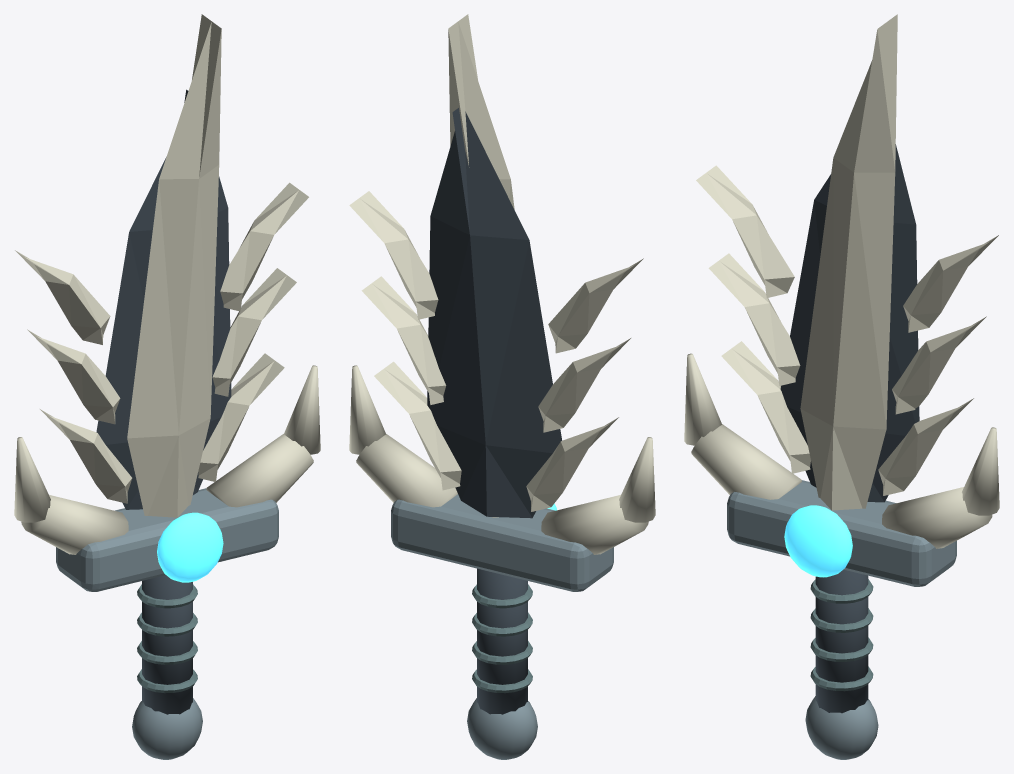
File: YK_00_Muk_Weapon_E02.glb
The picture shows the model from 3 angles, left to right: view 1: azimuth 30°, elevation 25°; view 2: azimuth 150°, elevation 25°; view 3: azimuth 330°, elevation 25°; orthographic projection. The views are drawn at different scales.
Parts seen in each view (by area): view 1: SM_YK_00_Muk_Weapon_P00, SM_YK_00_Muk_Weapon_P01, SM_YK_00_Muk_Weapon_P02; view 2: SM_YK_00_Muk_Weapon_P01, SM_YK_00_Muk_Weapon_P00, SM_YK_00_Muk_Weapon_P02; view 3: SM_YK_00_Muk_Weapon_P00, SM_YK_00_Muk_Weapon_P01, SM_YK_00_Muk_Weapon_P02.
Part boxes in pixels (x1,y1,x2,y2): SM_YK_00_Muk_Weapon_P00: (56,14,278,759); SM_YK_00_Muk_Weapon_P01: (14,89,320,554); SM_YK_00_Muk_Weapon_P02: (15,182,308,503); SM_YK_00_Muk_Weapon_P01: (349,108,655,554); SM_YK_00_Muk_Weapon_P00: (391,14,613,759); SM_YK_00_Muk_Weapon_P02: (349,191,643,511); SM_YK_00_Muk_Weapon_P00: (727,14,956,759); SM_YK_00_Muk_Weapon_P01: (684,144,999,548); SM_YK_00_Muk_Weapon_P02: (696,165,998,495).
Bounding box in the file's own units: 0.6119 × 1.41 × 0.18.
